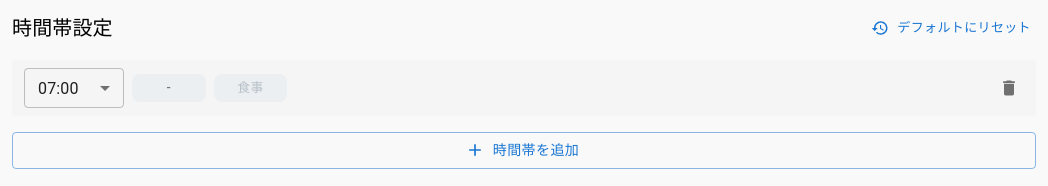
Scenario: TimeSlotEditor toggle buttons › toggles meal button between meal and time-based meal label
Click the button "食事": x=250, y=88 [214, 74, 287, 102]
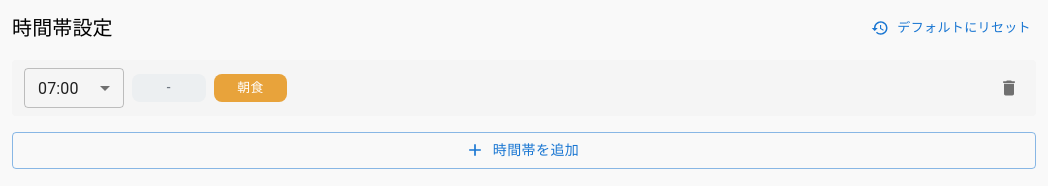
Expected: the button "朝食" is shown
Click the button "朝食": x=250, y=88 [214, 74, 287, 102]
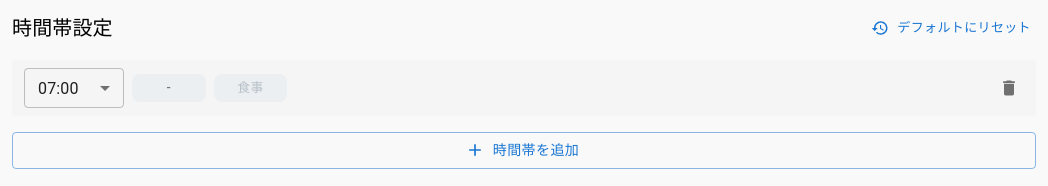
Expected: the button "食事" is shown, [214, 74, 287, 102]
